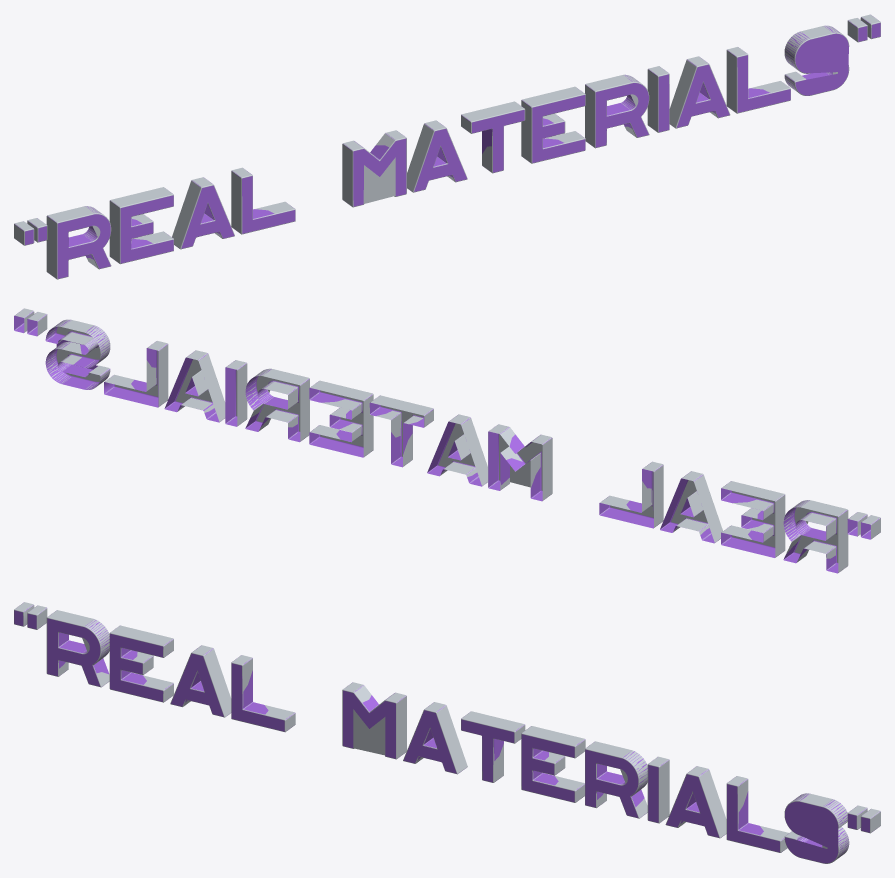
File: RM Text - Real Materials.fbx
The picture shows the model from 3 angles, top to bottom: view 1: azimuth 30°, elevation 25°; view 2: azimuth 150°, elevation 25°; view 3: azimuth 330°, elevation 25°; orthographic projection.
Visible parts, largest first — view 1: Text - Real Materials_PHYS, Text - Real Materials_LOD0; view 2: Text - Real Materials_LOD0, Text - Real Materials_PHYS; view 3: Text - Real Materials_PHYS, Text - Real Materials_LOD0.
Boxes of the visible parts, x1,y1,x2,y2 form: Text - Real Materials_PHYS: (14, 17, 880, 278); Text - Real Materials_LOD0: (14, 14, 880, 279); Text - Real Materials_LOD0: (14, 308, 880, 572); Text - Real Materials_PHYS: (14, 311, 880, 573); Text - Real Materials_PHYS: (14, 602, 879, 863); Text - Real Materials_LOD0: (14, 602, 880, 863).
Size of what is drawn, in the model's own units: 628 by 40.04 by 12.97.
